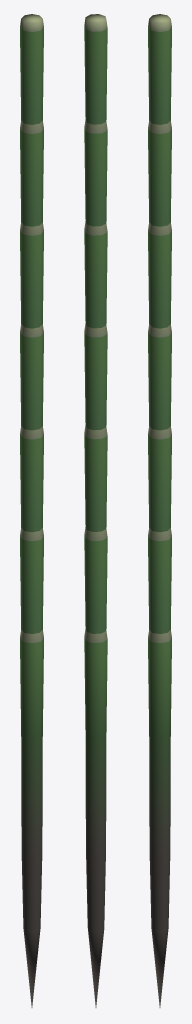
3 renders of one model, left to right at view 1: azimuth 90°, elevation 25°; view 2: azimuth 210°, elevation 25°; view 3: azimuth 270°, elevation 25°, orthographic.
Visible parts, largest first — view 1: base.588; view 2: base.588; view 3: base.588.
Boxes of the visible parts, left/top/right/bottom form: base.588: left=20, top=14, right=43, bottom=1007; base.588: left=84, top=14, right=107, bottom=1007; base.588: left=148, top=14, right=171, bottom=1007.
Bounding box in the file's own units: 0.0111 × 0.5 × 0.0111.
